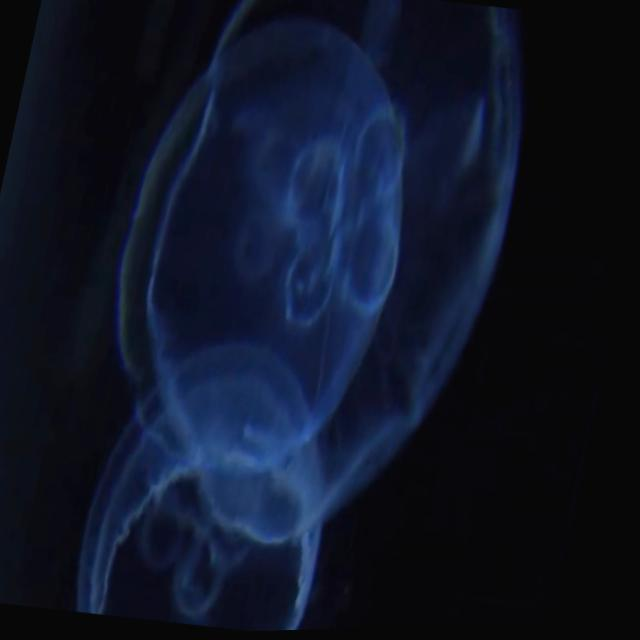Moon-jellyfish: (87, 0, 523, 633)
